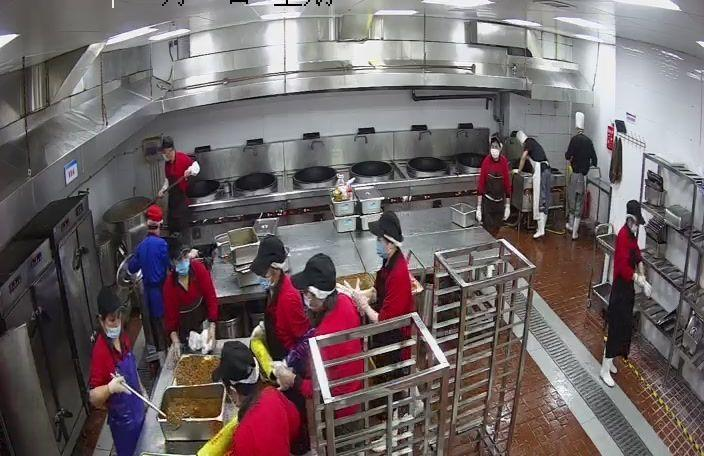mask: (101, 318, 125, 344)
